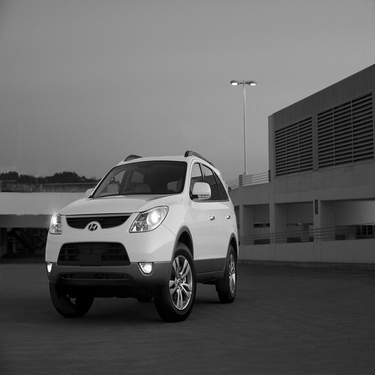car: (41, 139, 245, 322)
